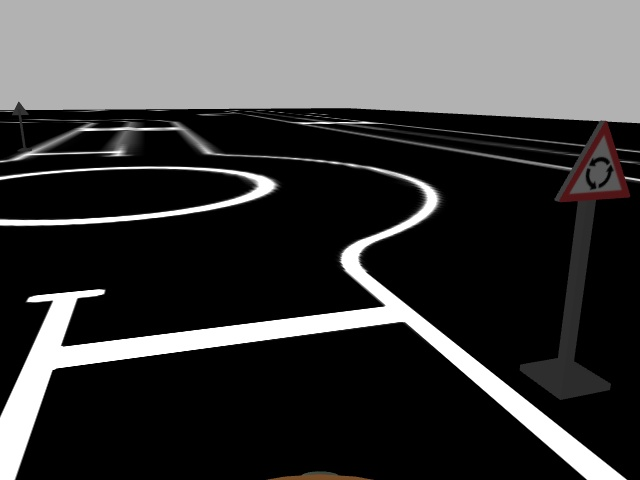roundabout: (555, 120, 632, 204)
